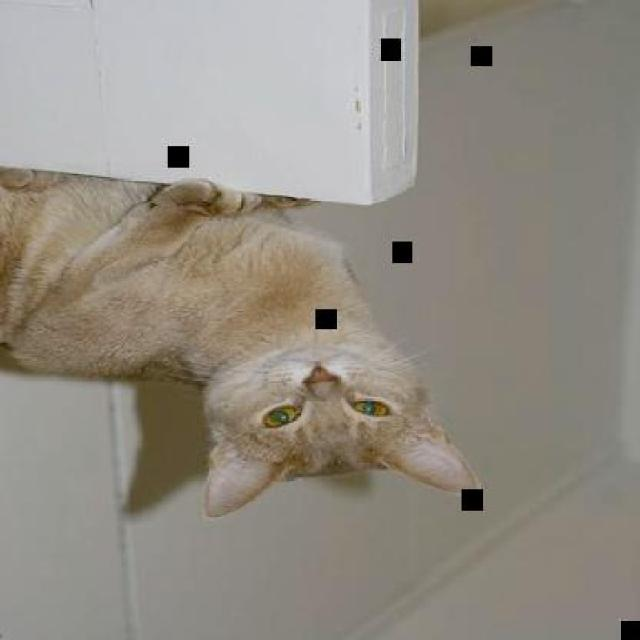cat: (0, 158, 480, 520)
